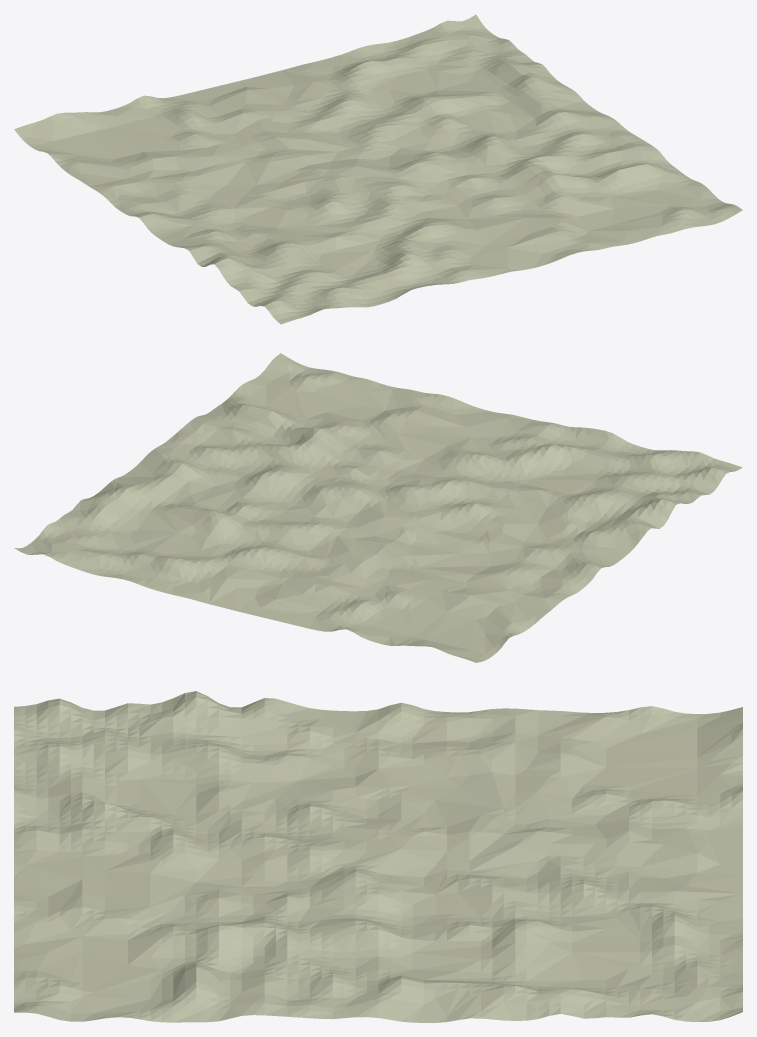
File: Desert_Terrain.FBX
3 views of the same model, one above another, from view 1: azimuth 30°, elevation 25°; view 2: azimuth 150°, elevation 25°; view 3: azimuth 270°, elevation 25° (orthographic). The views are drawn at different scales.
Parts seen in each view (by area): view 1: Desert_Terrain; view 2: Desert_Terrain; view 3: Desert_Terrain.
Part boxes in pixels (box(x1,y1,x2,y2)): Desert_Terrain: box(14, 14, 742, 324); Desert_Terrain: box(14, 353, 742, 662); Desert_Terrain: box(14, 691, 742, 1022).
Bounding box in the file's own units: 1000 × 42.87 × 1000.
Materials: 1 (1 with a texture image).
